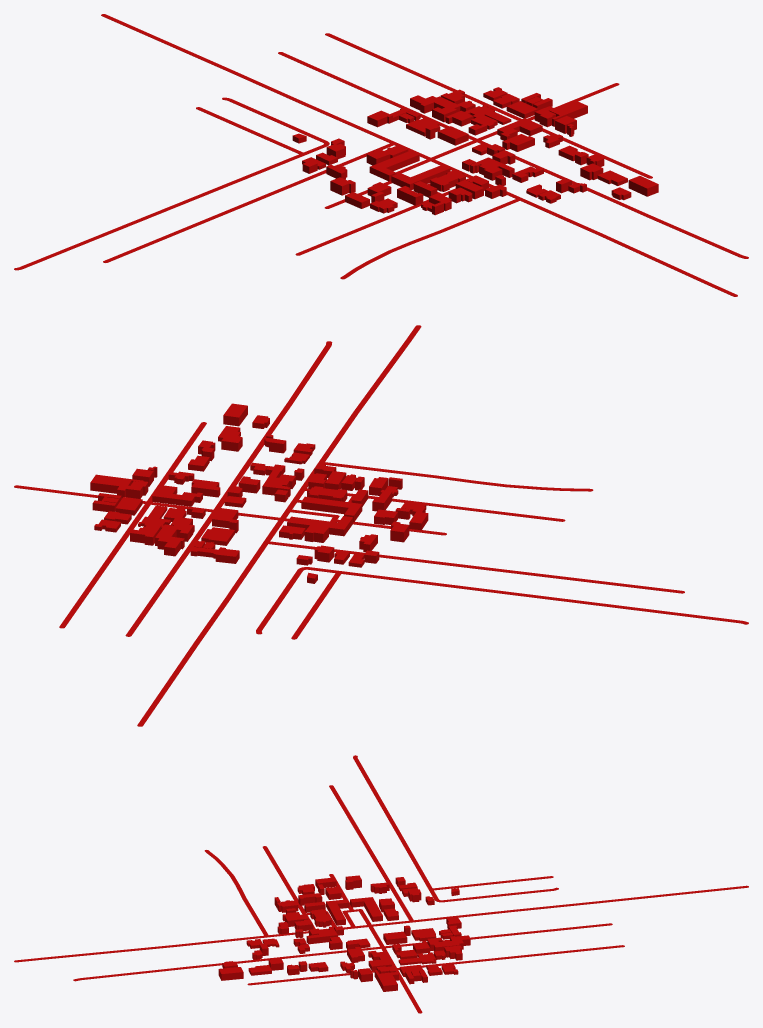
Rendered from GH_JLAO Exported.obj.
3 views of the same model, one above another, from view 1: azimuth 30°, elevation 25°; view 2: azimuth 150°, elevation 25°; view 3: azimuth 270°, elevation 25° (orthographic). The views are drawn at different scales.
Bounding box in the file's own units: 811 × 11.58 × 977.
